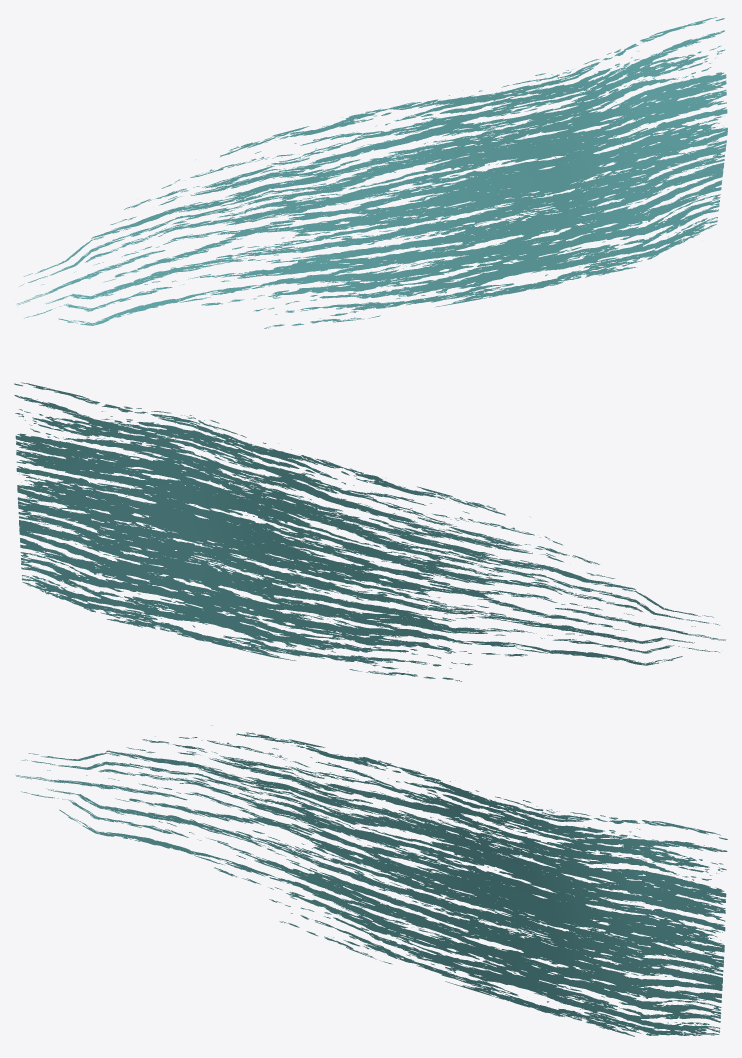
File: DroopingAlgaeSingle.fbx
The picture shows the model from 3 angles, top to bottom: view 1: azimuth 30°, elevation 25°; view 2: azimuth 150°, elevation 25°; view 3: azimuth 330°, elevation 25°; orthographic projection. The views are drawn at different scales.
Visible parts, largest first — view 1: Plane.019; view 2: Plane.019; view 3: Plane.019.
Boxes of the visible parts, x1,y1,x2,y2 form: Plane.019: (16, 17, 727, 328); Plane.019: (14, 382, 725, 681); Plane.019: (15, 725, 727, 1036).
Bounding box in the file's own units: 6.63 × 1.99 × 0.3013.
